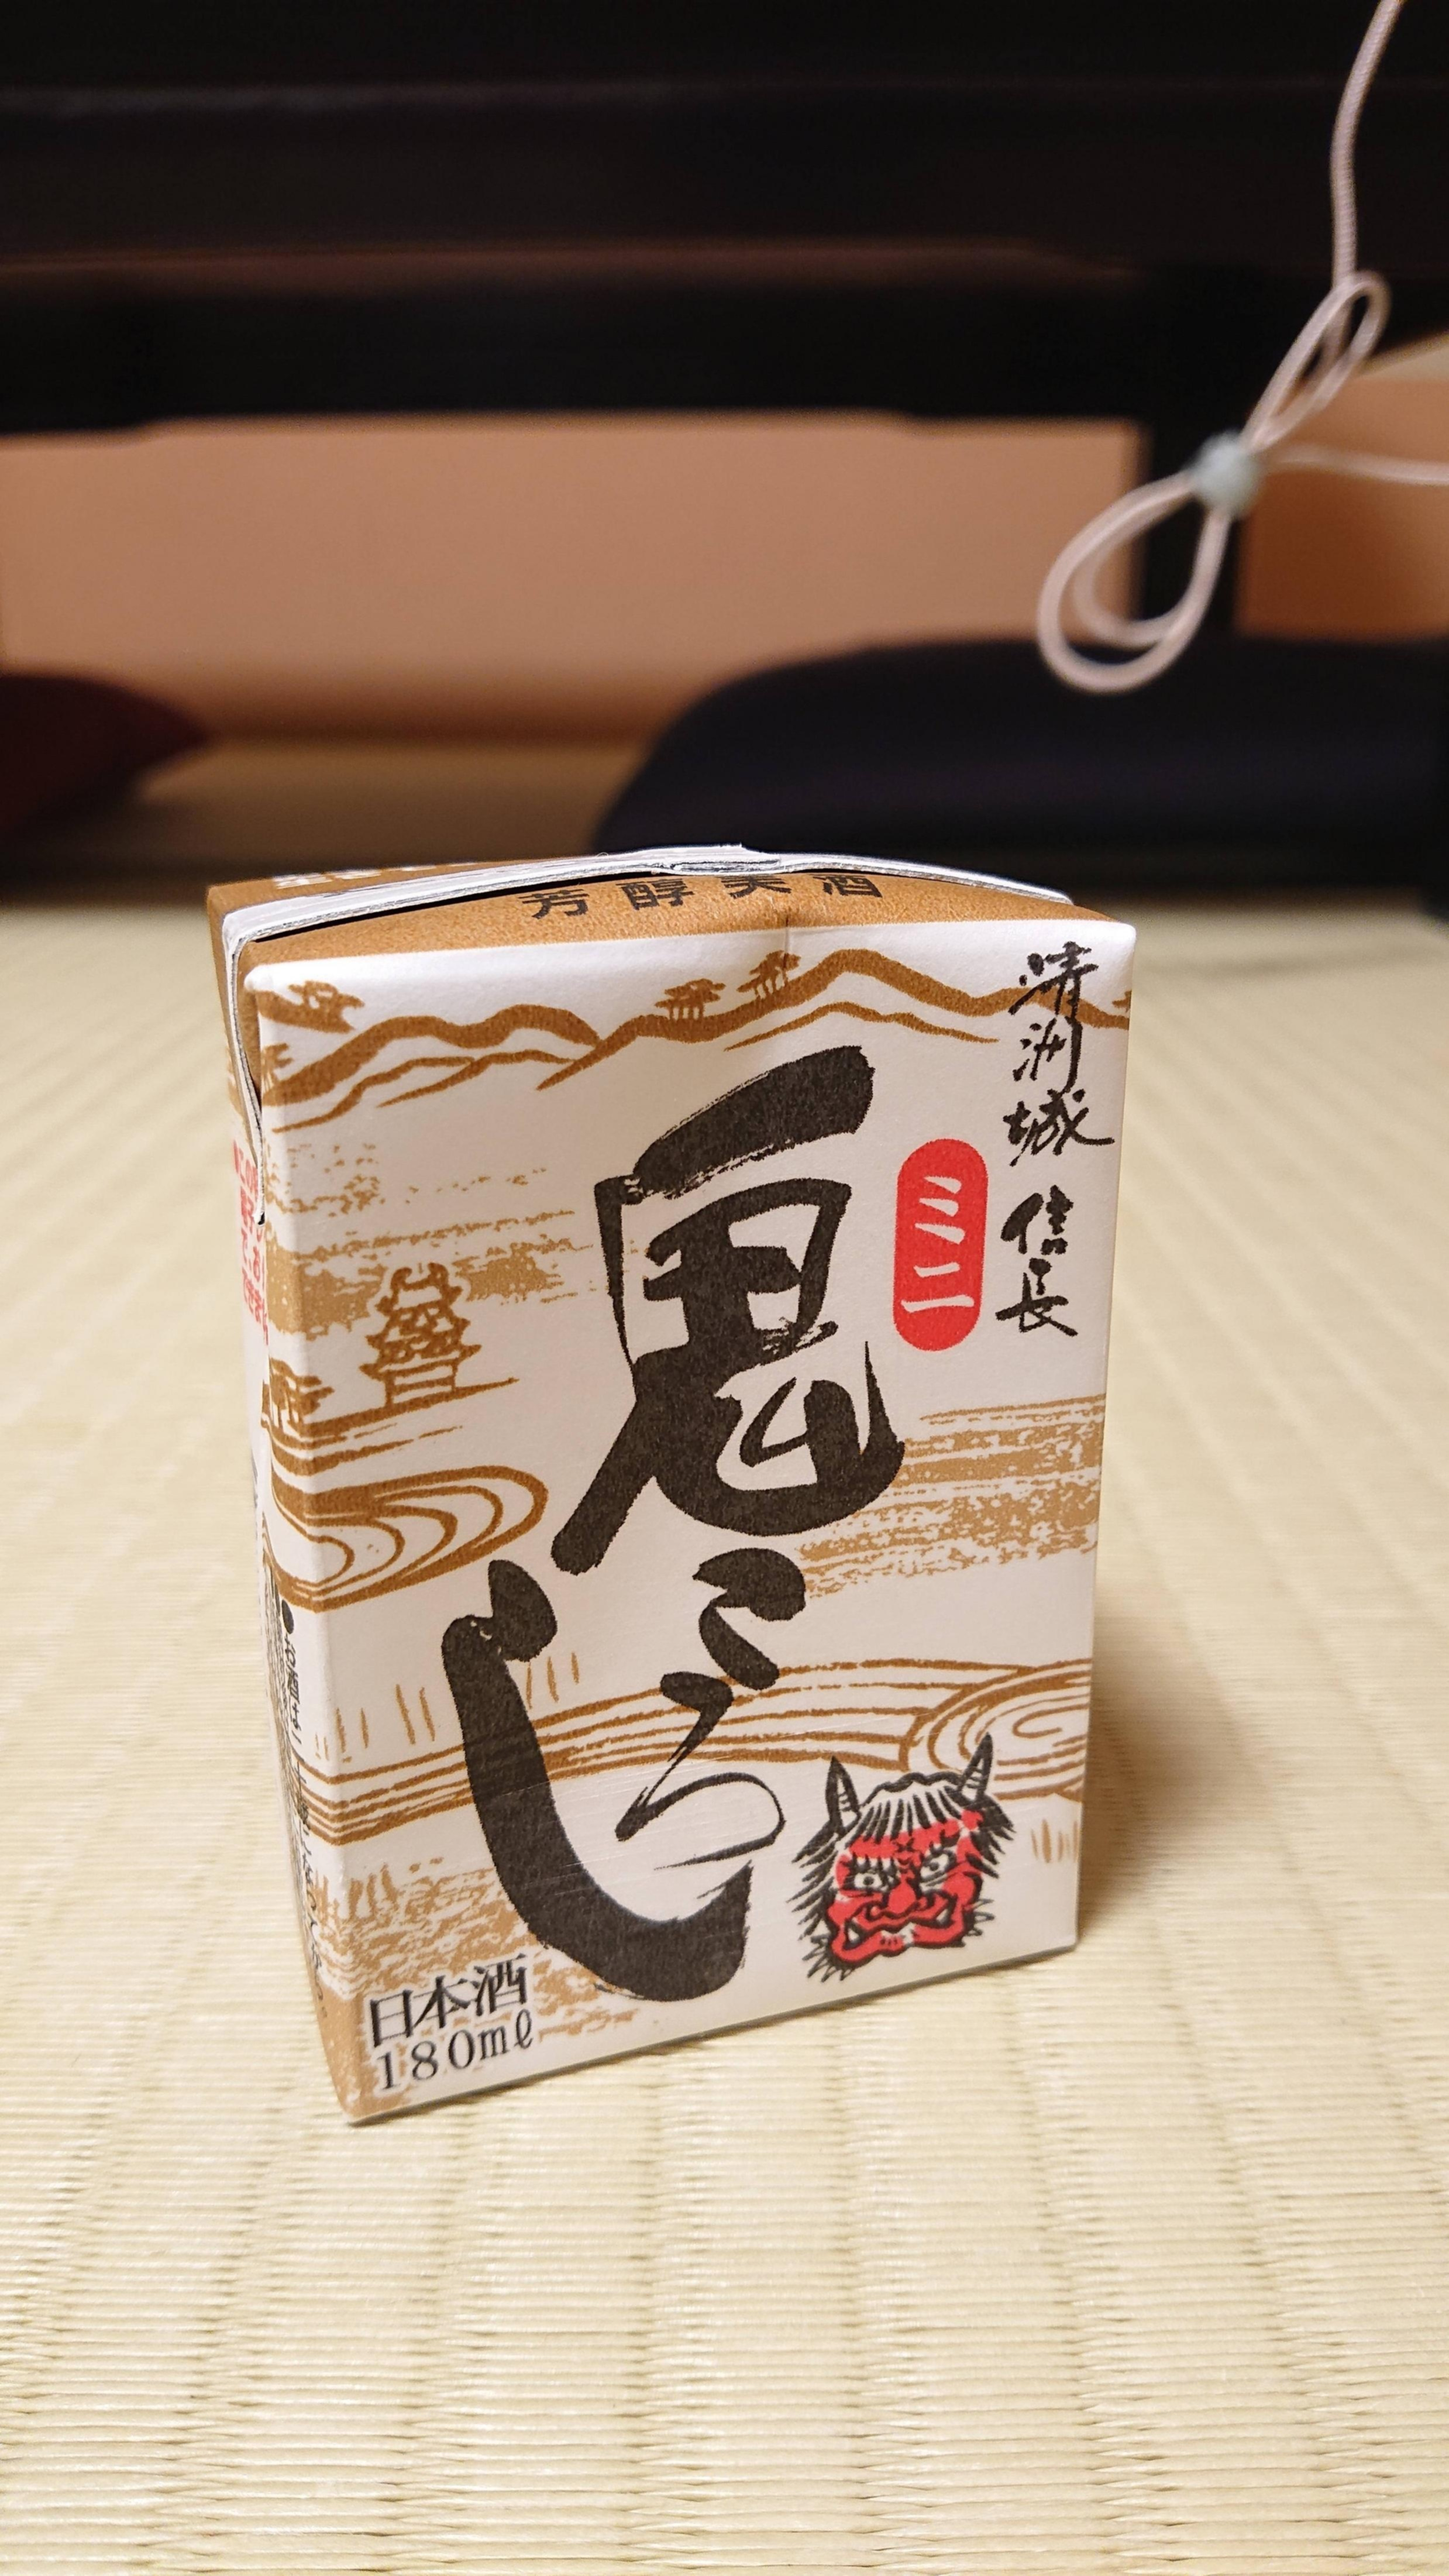鋁箔包: (147, 803, 1196, 2135)
